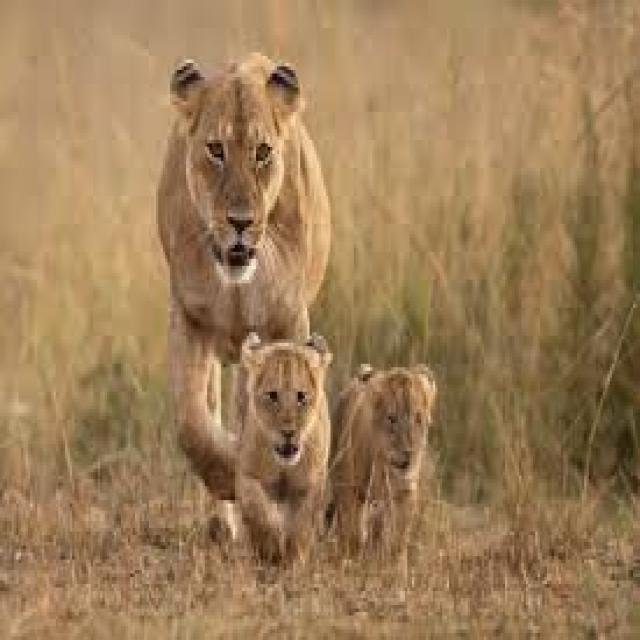Lion: (154, 49, 330, 542), (323, 360, 438, 598), (226, 328, 330, 566)
